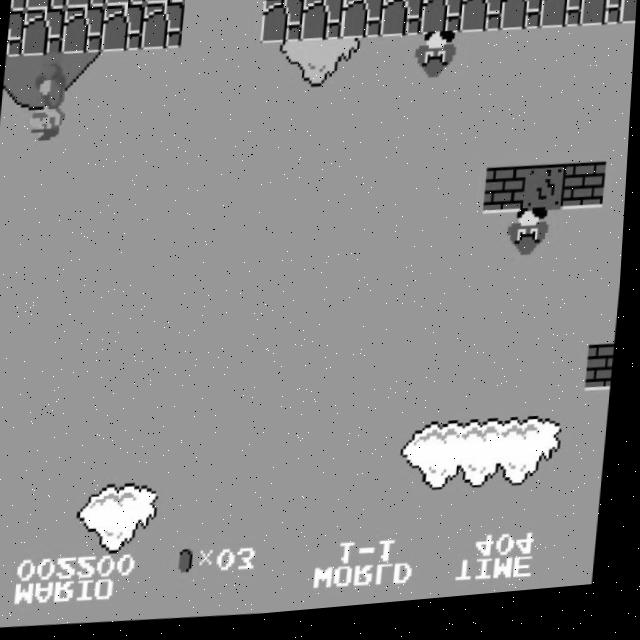0- big_mario: (24, 50, 74, 148)
1- brick_block: (484, 174, 530, 224), (564, 171, 610, 221), (589, 354, 619, 403)
13- mystery_block: (524, 173, 570, 223)
17- undestructible_block: (140, 3, 185, 54), (21, 7, 66, 57), (60, 6, 105, 56), (100, 5, 145, 55), (260, 0, 305, 49), (300, 0, 345, 48), (340, 0, 385, 47), (380, 0, 425, 45), (420, 0, 465, 43), (460, 0, 505, 42), (499, 0, 545, 41), (539, 0, 585, 40), (579, 0, 625, 38), (6, 10, 25, 57), (618, 0, 638, 37), (24, 0, 67, 11), (64, 0, 107, 10), (104, 0, 147, 9), (144, 0, 187, 8), (9, 0, 26, 12), (264, 0, 307, 3), (304, 0, 347, 2), (343, 0, 386, 1)
8- goomba: (411, 37, 458, 90), (506, 216, 553, 269)
